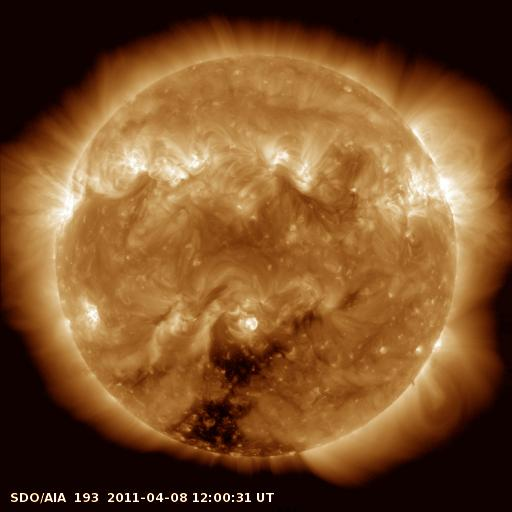coronal_hole: (163, 326, 302, 461)
